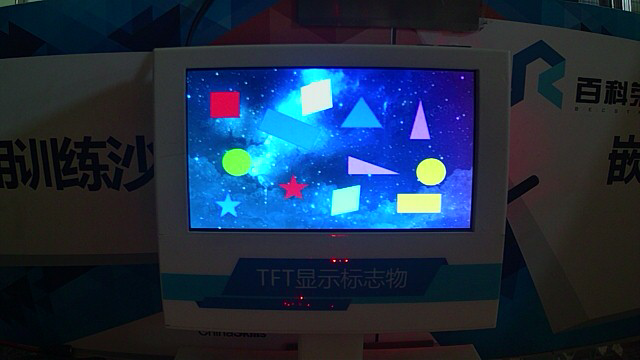graph: (182, 64, 483, 237)
